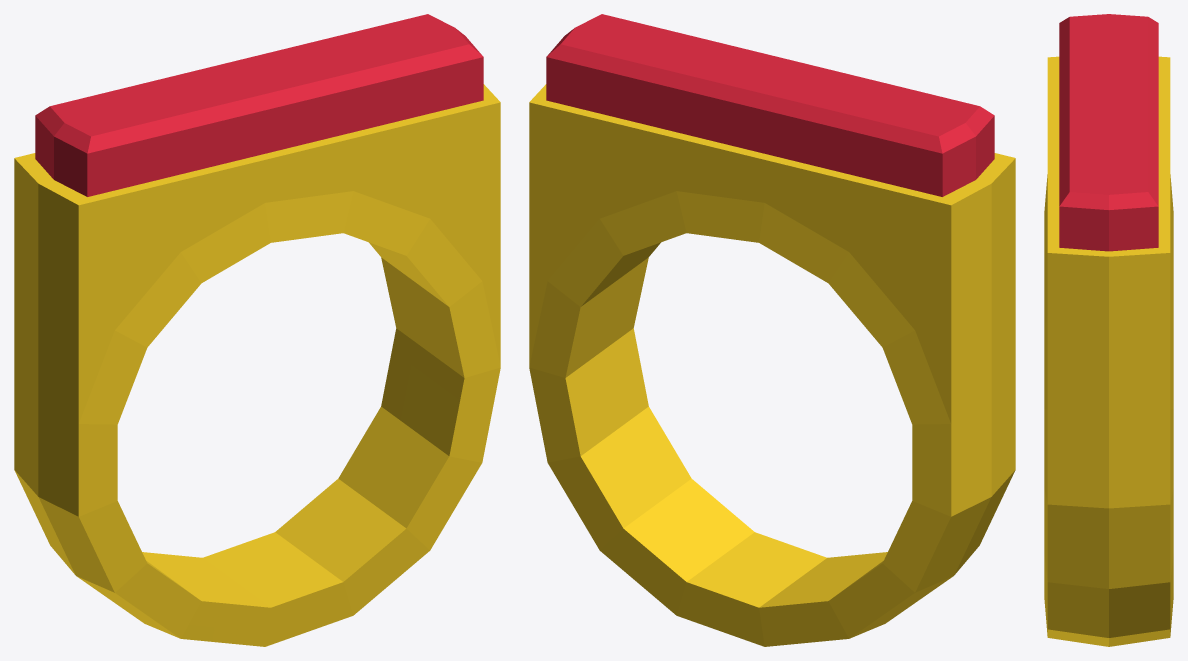
Rendered from Ring3.glb.
3 renders of one model, left to right at view 1: azimuth 30°, elevation 25°; view 2: azimuth 150°, elevation 25°; view 3: azimuth 270°, elevation 25°, orthographic. The views are drawn at different scales.
Visible parts, largest first — view 1: Ring3_Torus; view 2: Ring3_Torus; view 3: Ring3_Torus.
Part boxes in pixels (left/top/right/bottom): Ring3_Torus: left=14, top=14, right=500, bottom=646; Ring3_Torus: left=529, top=14, right=1015, bottom=646; Ring3_Torus: left=1044, top=14, right=1173, bottom=646.
Size of the model in its own units: 0.6693 by 0.8025 by 0.1805.
1 material, 1 textured.
